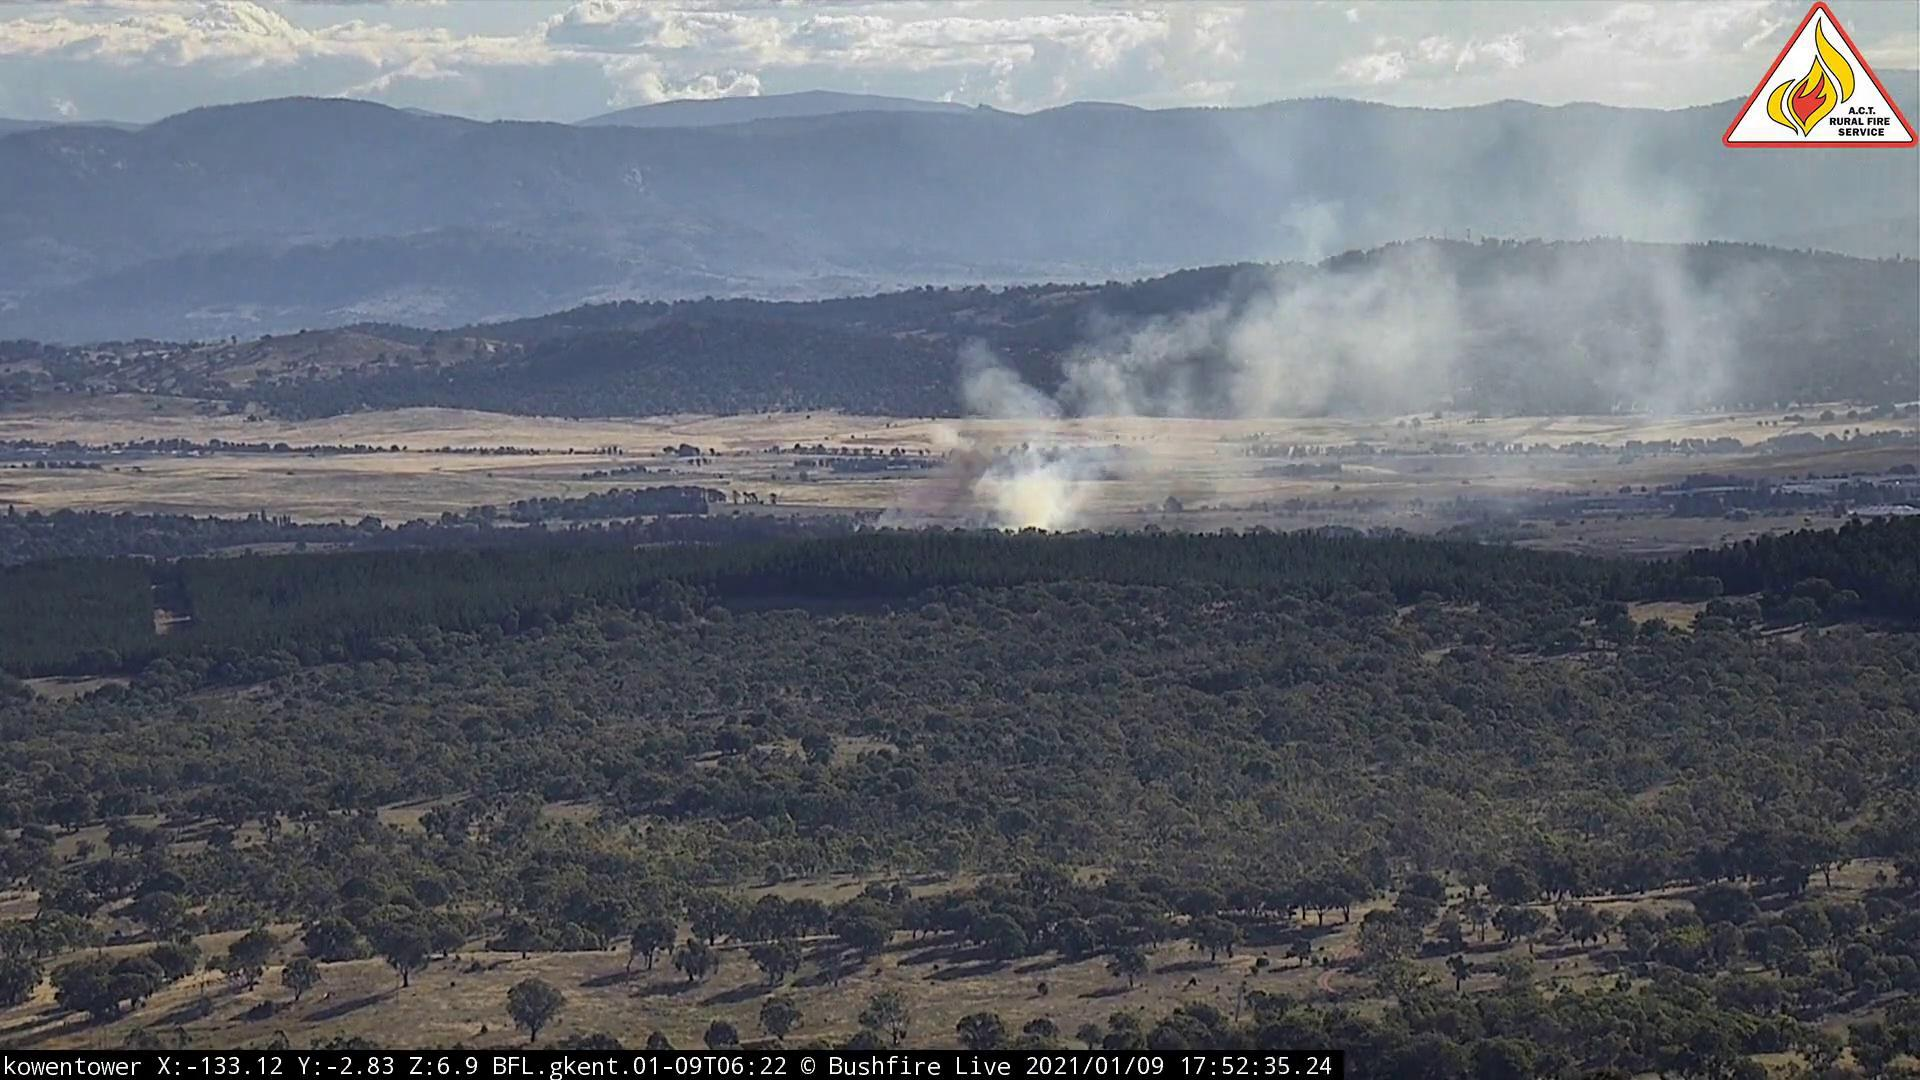Smoke: (877, 105, 1717, 539)
